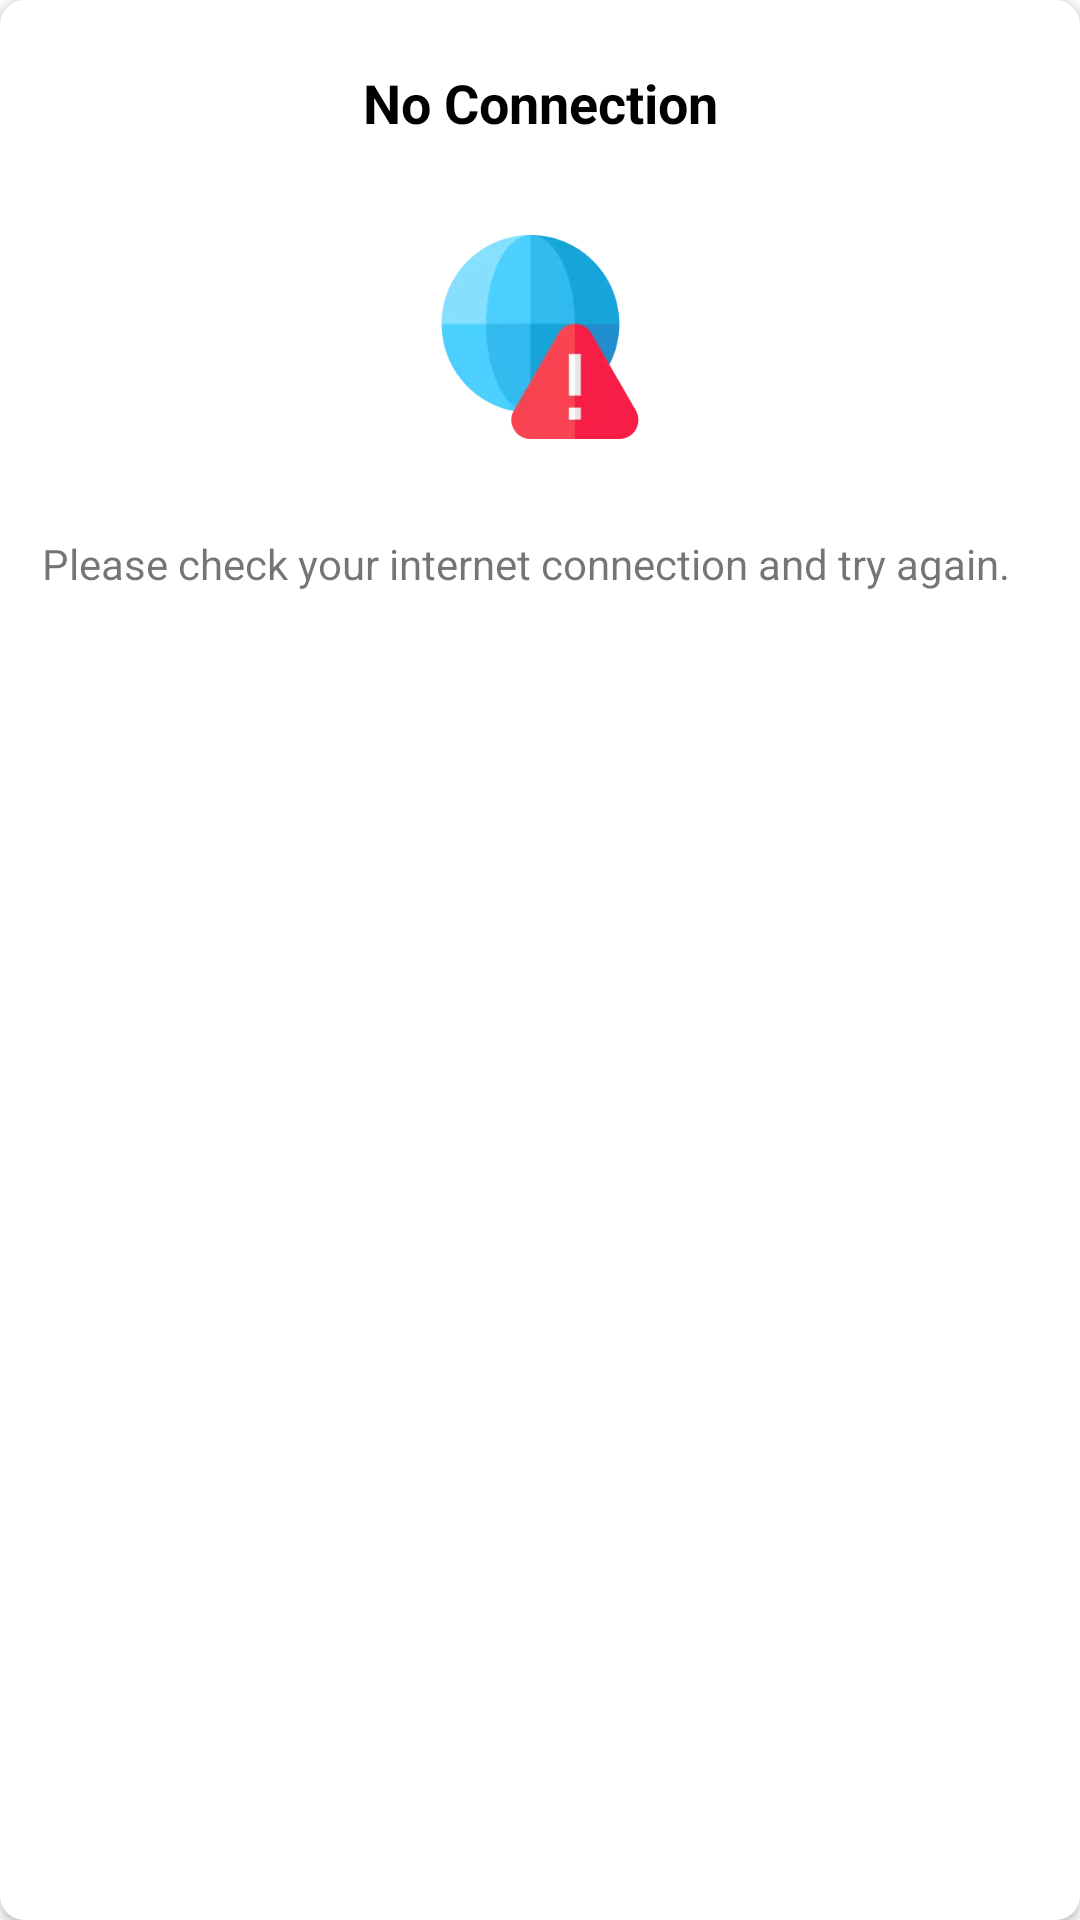

Named icons in this screenshot (1080px×1920px) and their centers, (x,y):
error connection: (540,337)
